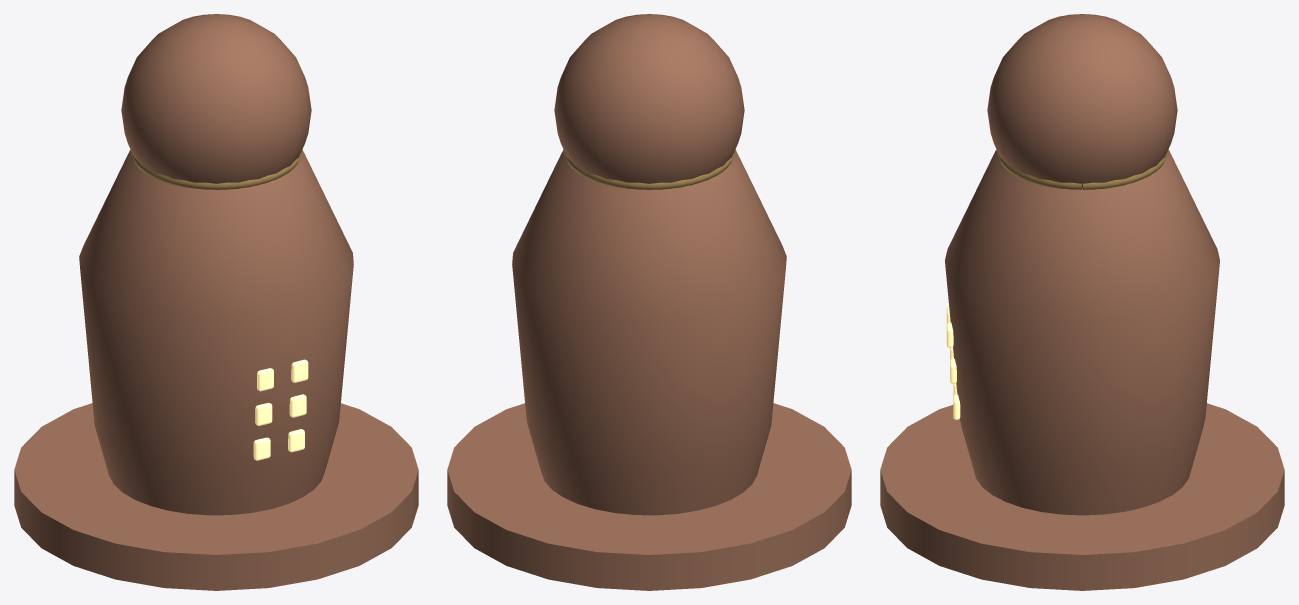
The picture shows the model from 3 angles, left to right: view 1: azimuth 30°, elevation 25°; view 2: azimuth 150°, elevation 25°; view 3: azimuth 270°, elevation 25°; orthographic projection.
Visible parts, largest first — view 1: Bulb shaped chamber, Foundation drum, Stacked rounded vessel, Rounded vessel collar; view 2: Bulb shaped chamber, Foundation drum, Stacked rounded vessel, Rounded vessel collar; view 3: Bulb shaped chamber, Foundation drum, Stacked rounded vessel, Rounded vessel collar.
Boxes of the visible parts, left/top/right/bottom form: Bulb shaped chamber: left=79, top=150, right=353, bottom=515; Foundation drum: left=14, top=403, right=418, bottom=590; Stacked rounded vessel: left=121, top=14, right=311, bottom=183; Rounded vessel collar: left=130, top=149, right=302, bottom=189; Bulb shaped chamber: left=512, top=150, right=786, bottom=515; Foundation drum: left=447, top=403, right=851, bottom=590; Stacked rounded vessel: left=554, top=14, right=744, bottom=183; Rounded vessel collar: left=563, top=149, right=735, bottom=189; Bulb shaped chamber: left=945, top=150, right=1219, bottom=515; Foundation drum: left=880, top=403, right=1284, bottom=590; Stacked rounded vessel: left=987, top=14, right=1177, bottom=188; Rounded vessel collar: left=996, top=149, right=1168, bottom=189.
Bounding box in the file's own units: 2.04 × 2.69 × 2.04.
